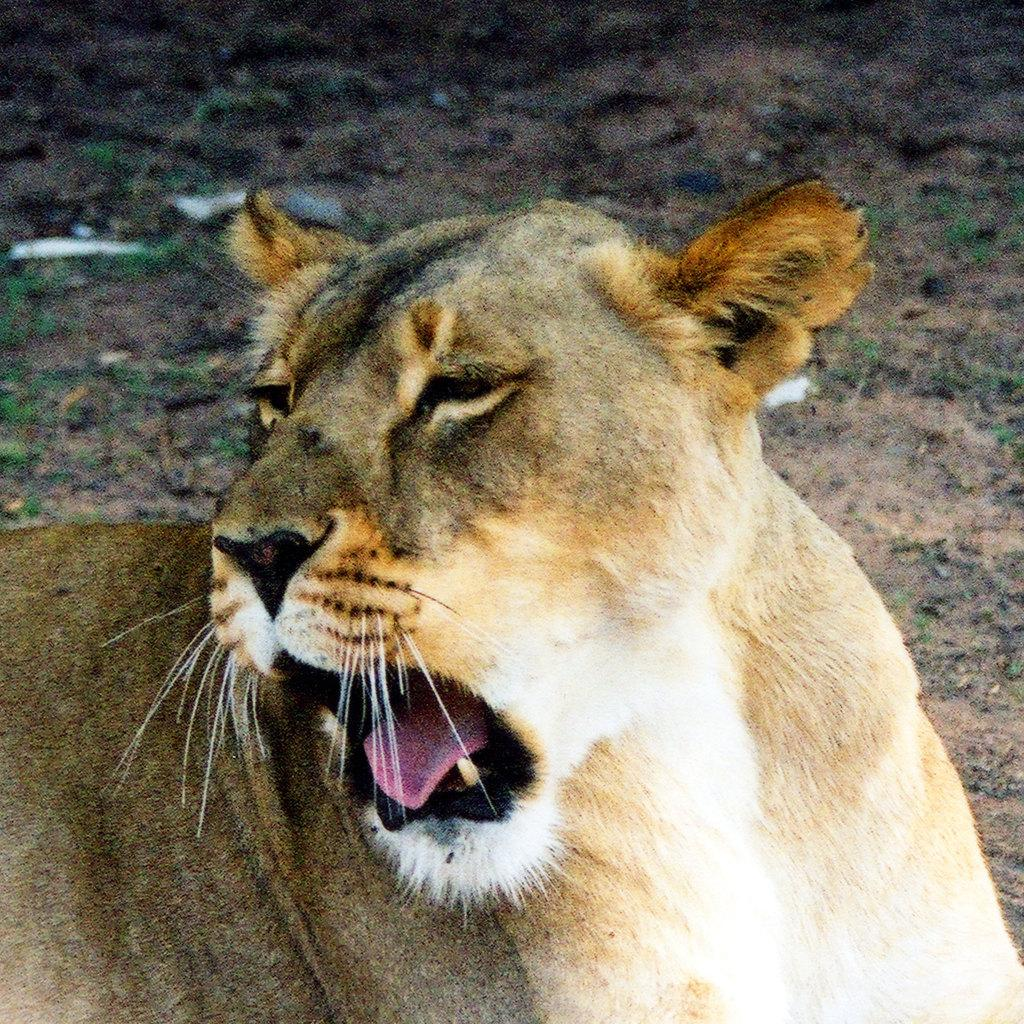lions: (2, 150, 1024, 1024)
